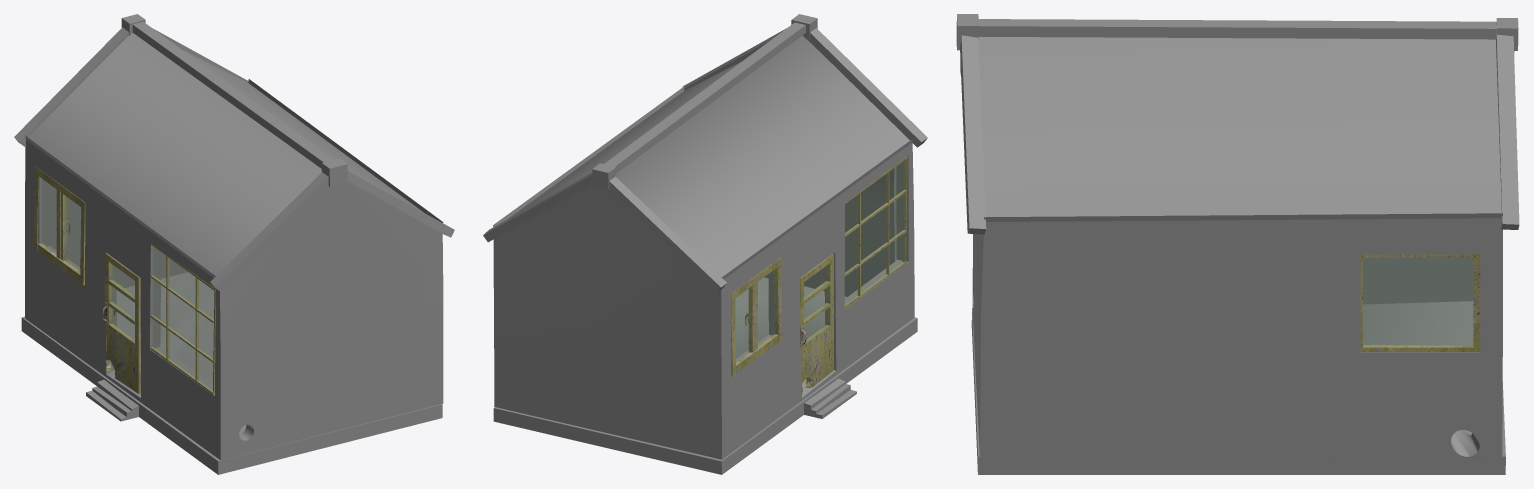
The model's file is Shack.FBX.
3 renders of one model, left to right at view 1: azimuth 30°, elevation 25°; view 2: azimuth 150°, elevation 25°; view 3: azimuth 270°, elevation 25°, orthographic. The views are drawn at different scales.
Parts seen in each view (by area): view 1: Box004, Box005, Box022, Box021, Box009, Box006; view 2: Box004, Box005, Box022, Box021, Box009, Box006; view 3: Box004, Box007, Box025.
Part boxes in pixels (box(x1,y1,x2,y2)): Box004: box(14, 14, 454, 474); Box005: box(153, 247, 213, 389); Box022: box(104, 253, 140, 393); Box021: box(33, 166, 85, 285); Box009: box(150, 243, 215, 394); Box006: box(42, 180, 80, 270); Box004: box(483, 14, 927, 474); Box005: box(845, 162, 906, 303); Box022: box(800, 254, 833, 393); Box021: box(731, 257, 782, 376); Box009: box(844, 156, 907, 308); Box006: box(736, 271, 774, 361); Box004: box(956, 14, 1519, 474); Box007: box(1363, 258, 1472, 345); Box025: box(1360, 254, 1480, 351).
Bounding box in the file's own units: 2677 × 2864 × 3826.
Materials: 10 (2 with a texture image).
